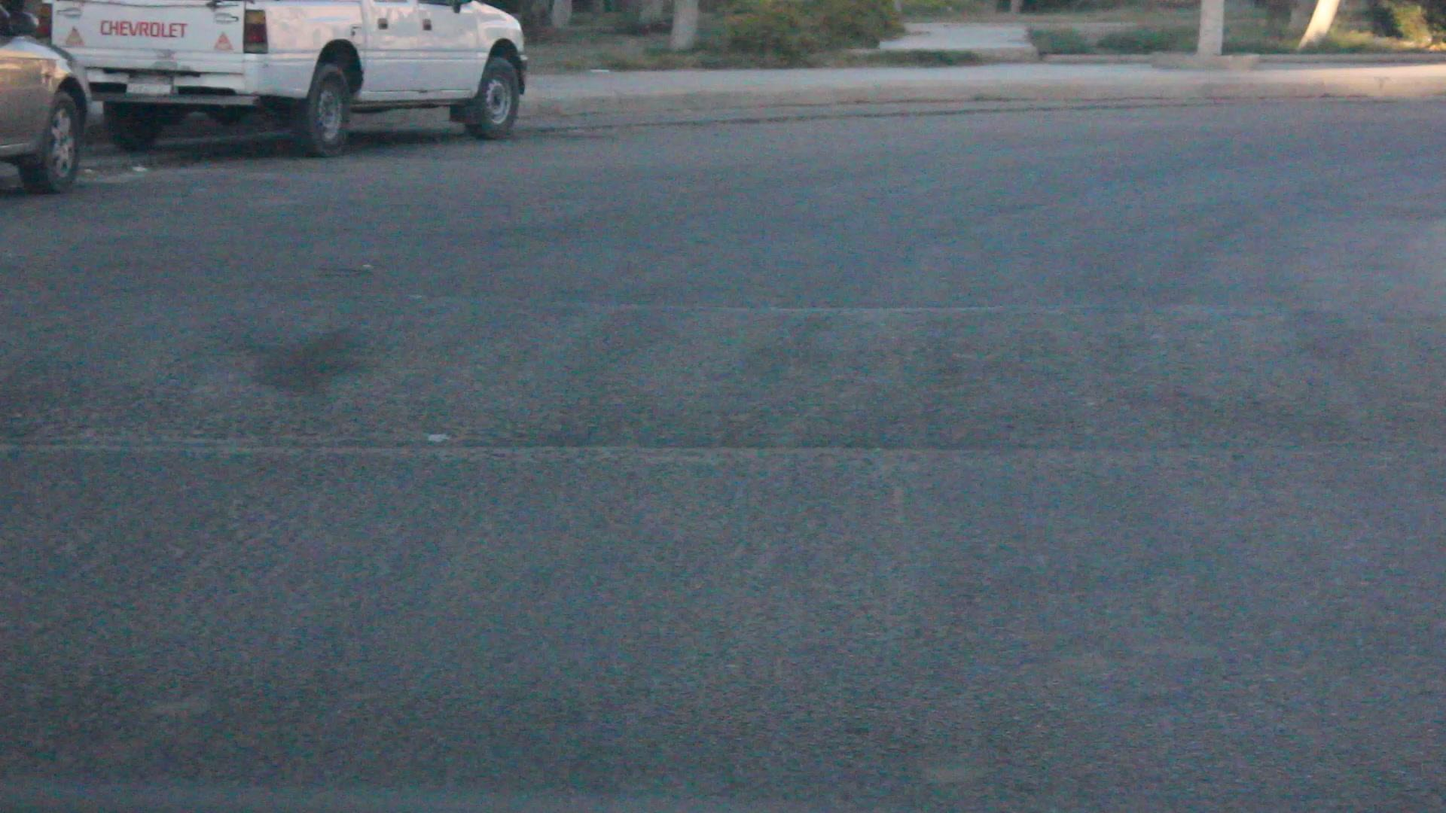Bump: (0, 279, 1446, 459)
